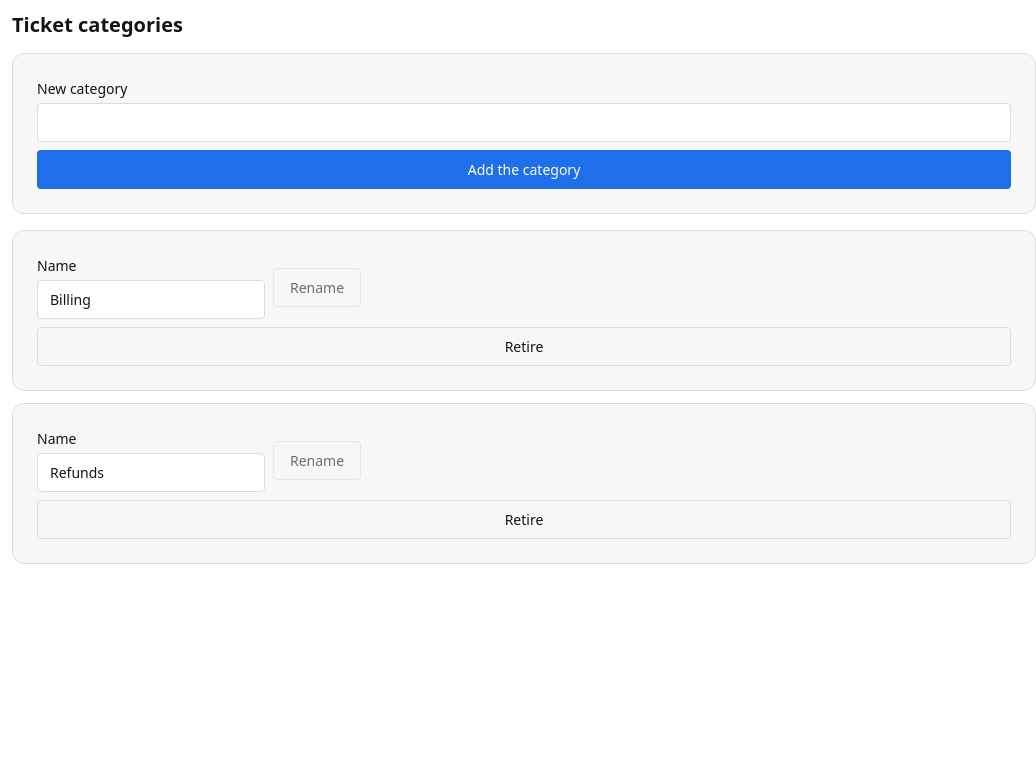
Scenario: an added category appears without the list being read again
Expected: the 1st field showing "Billing" is shown, [37,280,265,319]
Type "  Shipping  " into the field labelled "New category" at [524, 122], box [37,103,1011,142]
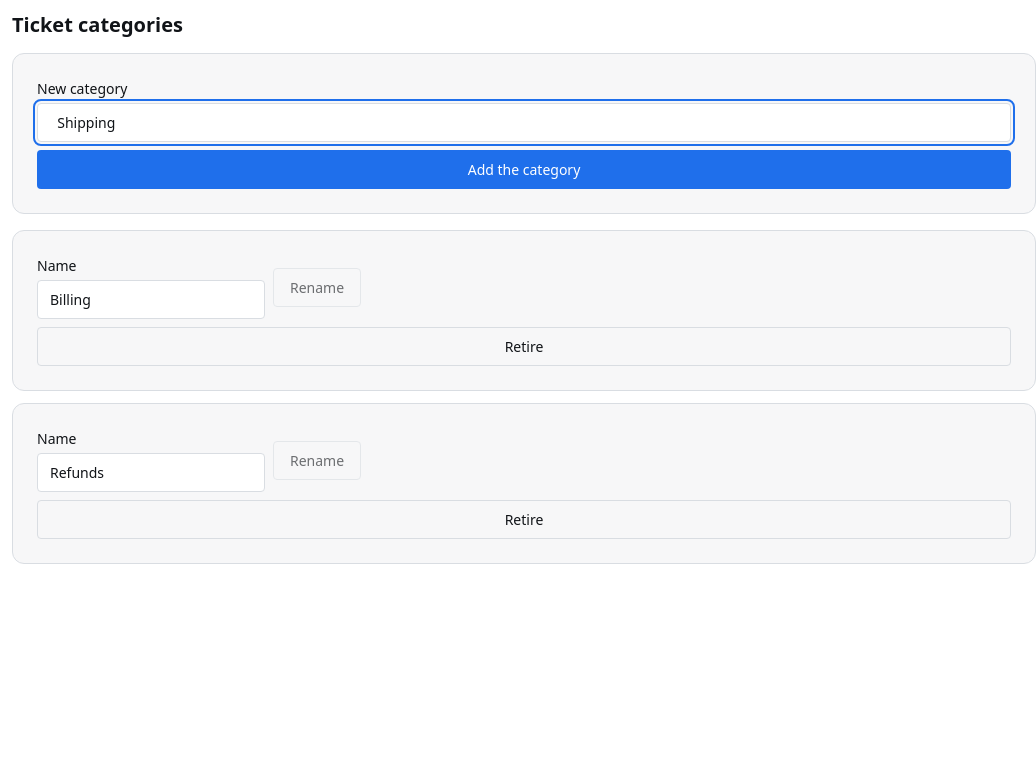
Click the button "Add the category" at [524, 170], box [37,150,1011,189]
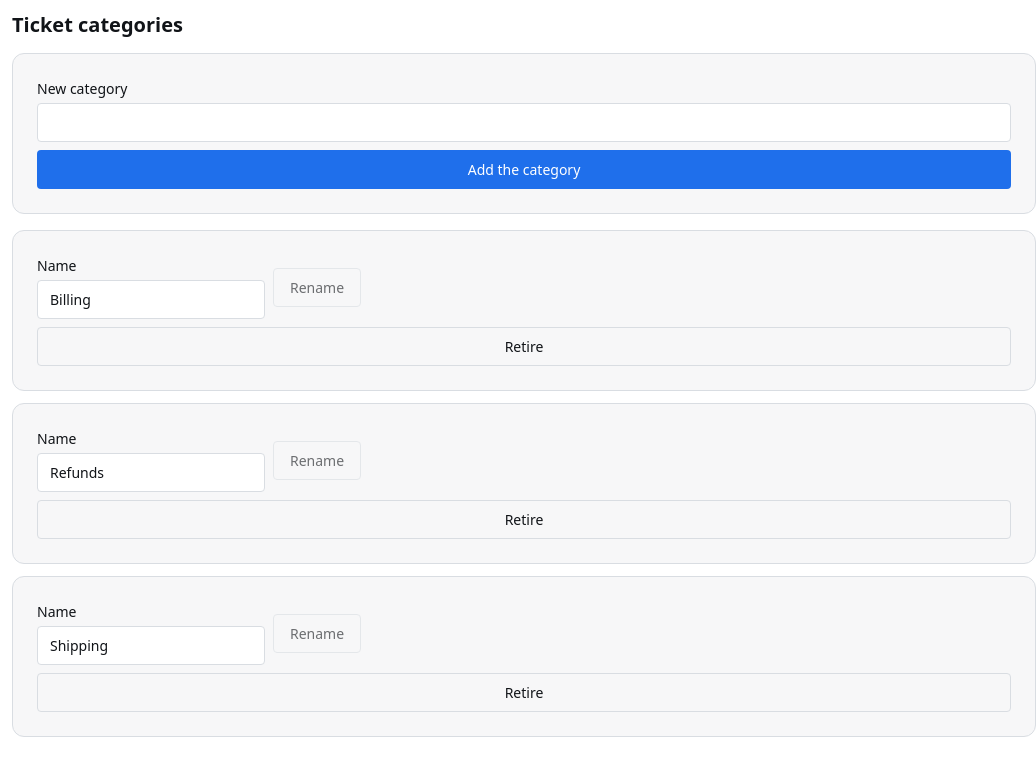
Result: the 3rd field showing "Shipping" is shown at [37,626,265,665]
Result: the field labelled "New category" is empty at [37,103,1011,142]
